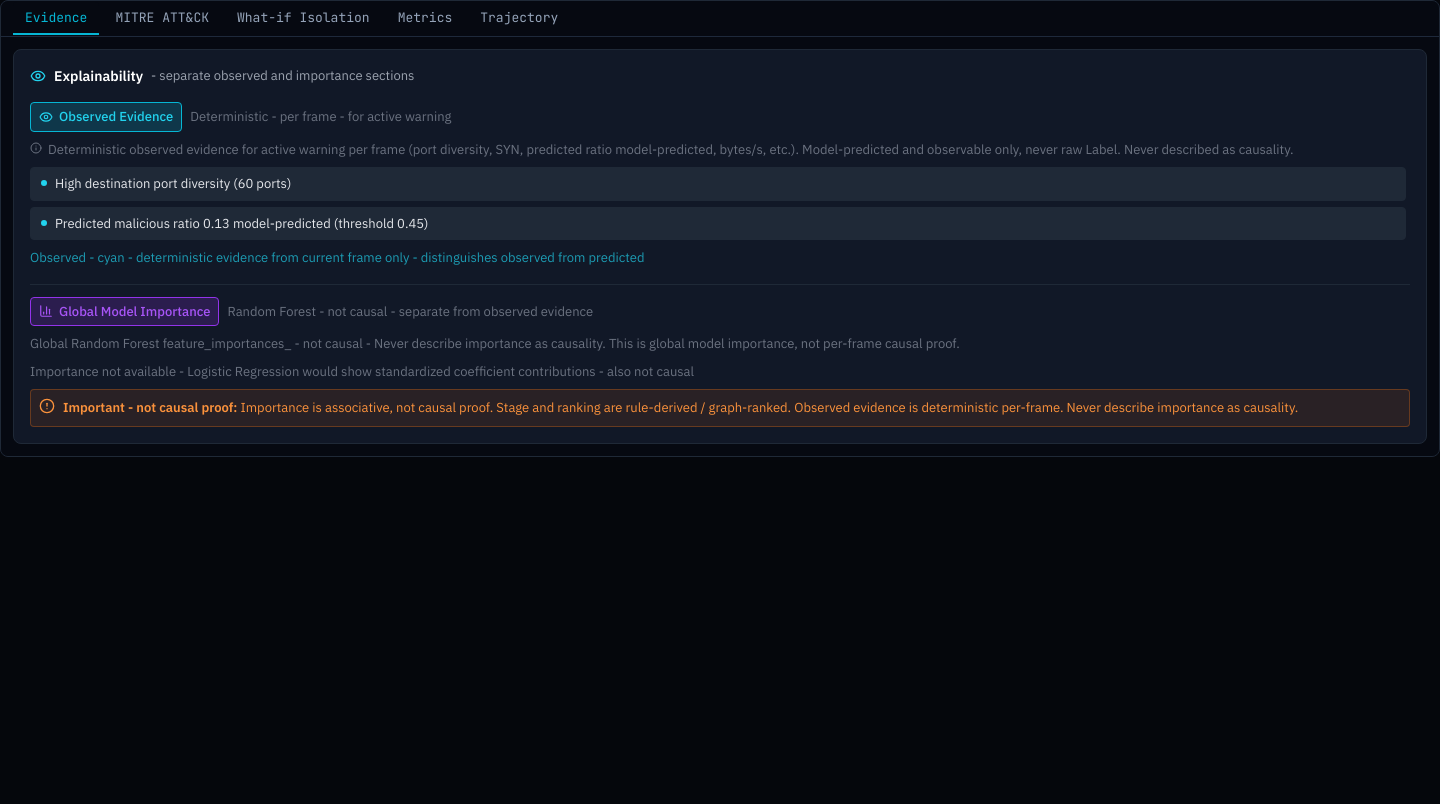
Test: WorkspaceTabs - tabbed lower workspace › preserves immutable what-if simulation - before/after deltas, removed edges, simulated label
Click the tab "What-if Isolation".
click(303, 19)  # box [225, 2, 382, 35]
(page scrolled)
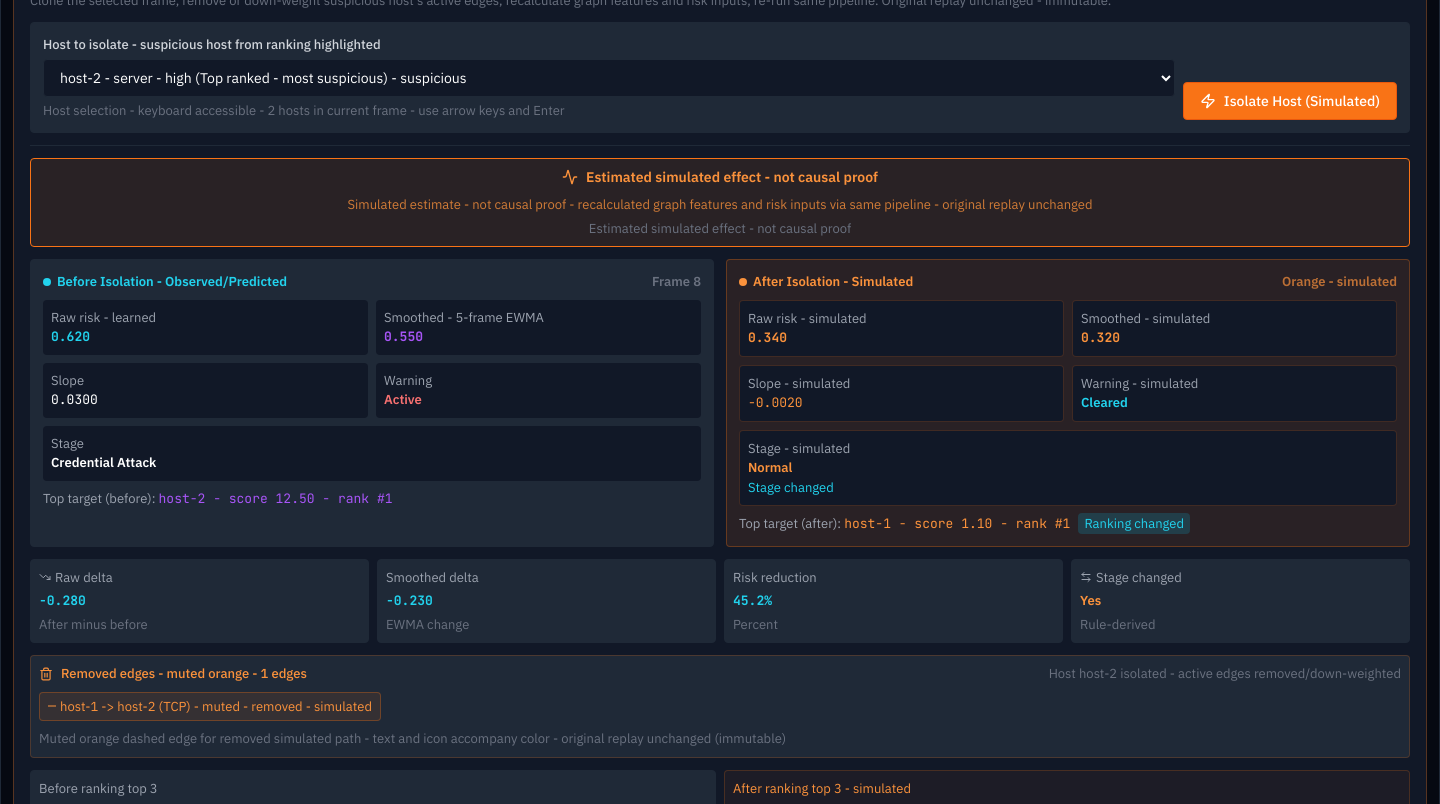
Expected: the element with test id "simulation-label" shows "Estimated simulated effect - not causal proof", [586, 168, 878, 186]
Expected: the heading "Before Isolation - Observed/Predicted" is shown, [57, 273, 287, 290]
Expected: the heading "After Isolation - Simulated" is shown, [753, 273, 913, 290]
